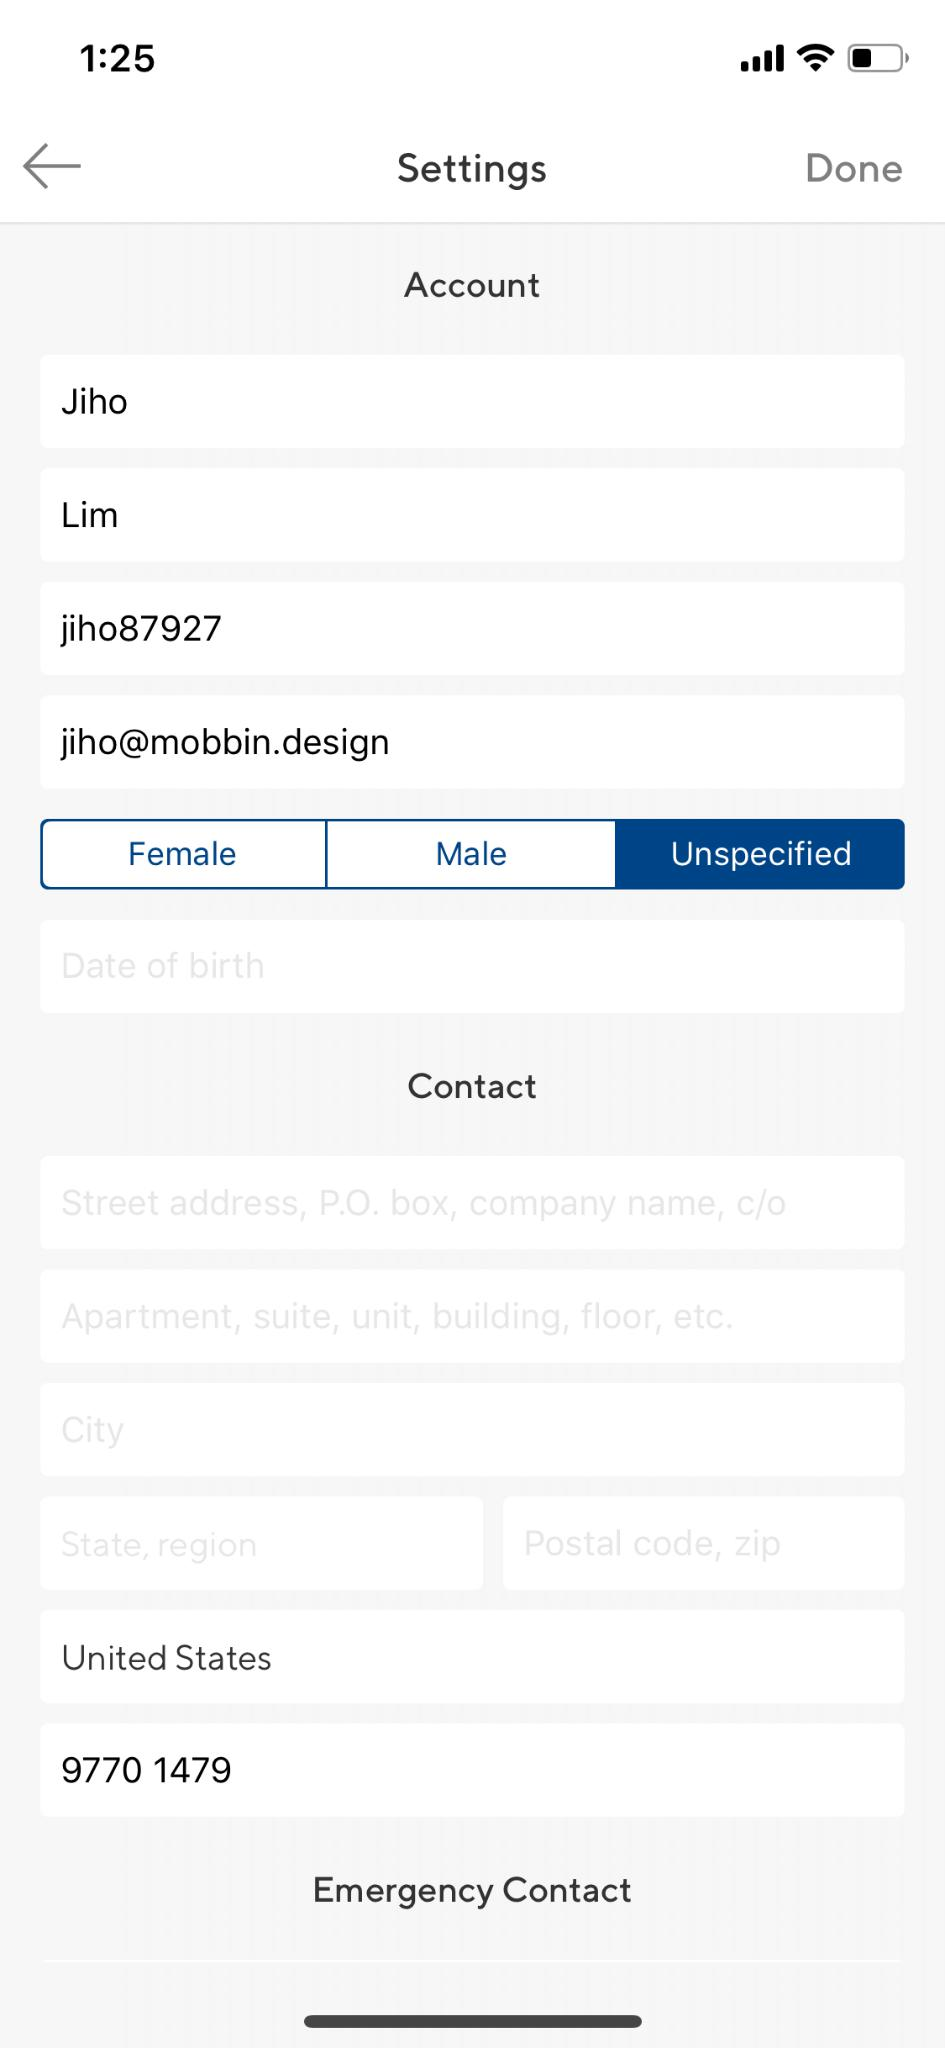Buttons: (27, 1831, 927, 1968), (787, 121, 923, 217), (4, 121, 108, 214)
Text Fields: (31, 341, 922, 462), (37, 910, 922, 1031), (33, 566, 918, 684), (39, 1599, 914, 1718), (37, 1256, 918, 1373), (34, 1374, 920, 1488), (31, 458, 922, 568), (38, 688, 918, 798), (39, 1715, 916, 1823), (37, 1143, 920, 1249), (37, 1490, 489, 1601), (489, 1490, 919, 1590)
